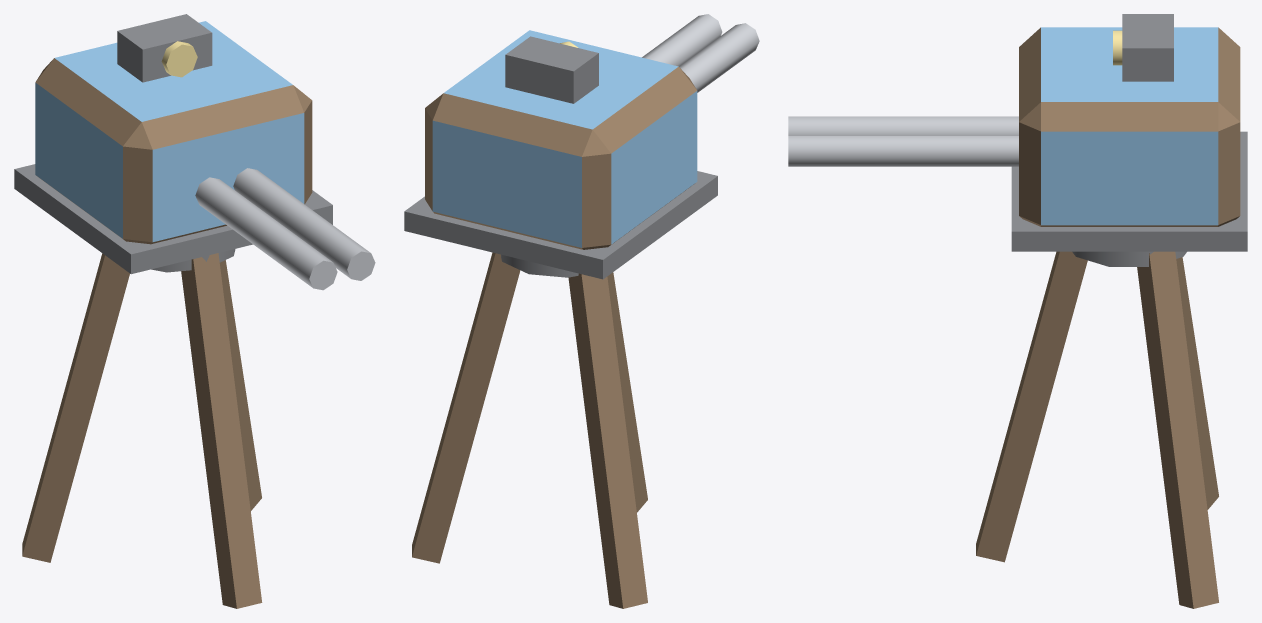
The model's file is hd_turret.glb.
3 renders of one model, left to right at view 1: azimuth 30°, elevation 25°; view 2: azimuth 150°, elevation 25°; view 3: azimuth 270°, elevation 25°, orthographic. The views are drawn at different scales.
Visible parts, largest first — view 1: hd_turret; view 2: hd_turret; view 3: hd_turret.
Boxes of the visible parts, x1,y1,x2,y2 form: hd_turret: (14,14,375,608); hd_turret: (404,14,759,608); hd_turret: (788,14,1247,608).
Size of the model in its own units: 0.7602 by 1.57 by 1.25.
